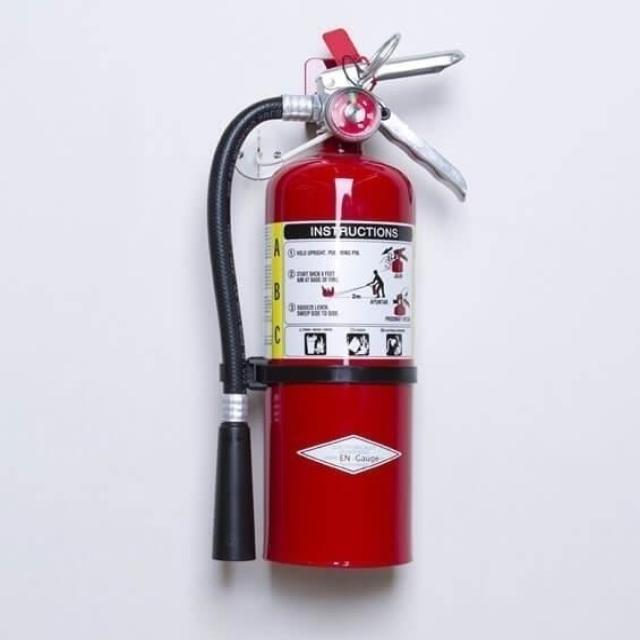fire_extinguisher: (199, 24, 472, 574)
